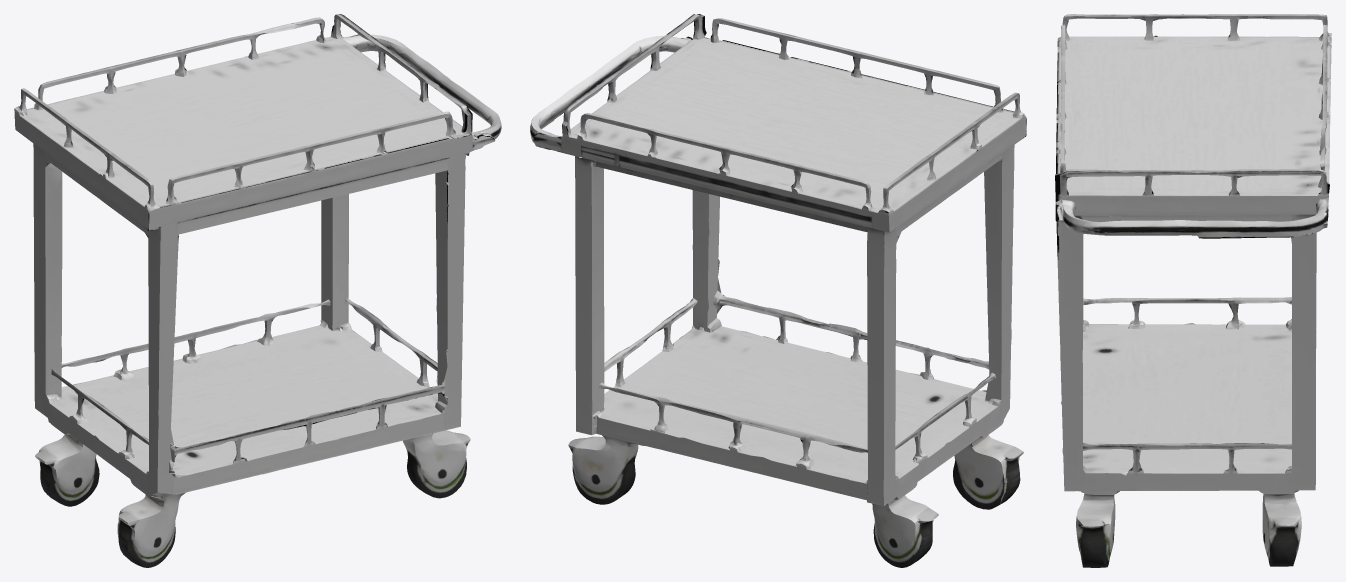
3 renders of one model, left to right at view 1: azimuth 30°, elevation 25°; view 2: azimuth 150°, elevation 25°; view 3: azimuth 270°, elevation 25°, orthographic.
Size of the model in its own units: 0.8 by 0.8 by 0.5.
Materials: 1 (1 with a texture image).
